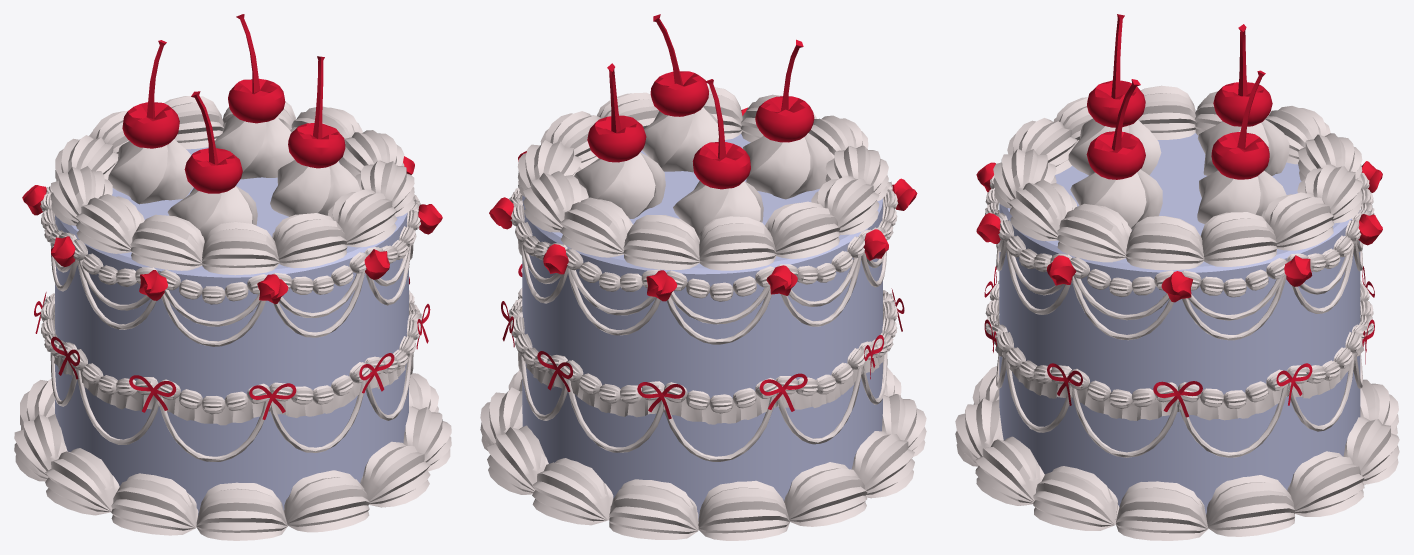
Rendered from cakeNEW2.glb.
3 renders of one model, left to right at view 1: azimuth 30°, elevation 25°; view 2: azimuth 150°, elevation 25°; view 3: azimuth 270°, elevation 25°, orthographic.
Parts seen in each view (by area): view 1: cake main, fiyonk; view 2: cake main, fiyonk; view 3: cake main, fiyonk.
Boxes of the visible parts, x1,y1,x2,y2 form: cake main: (14, 14, 451, 540); fiyonk: (34, 277, 430, 419); cake main: (480, 14, 926, 540); fiyonk: (501, 264, 904, 419); cake main: (955, 14, 1399, 540); fiyonk: (984, 266, 1374, 417).
Size of the model in its own units: 0.3433 by 0.3443 by 0.342.
